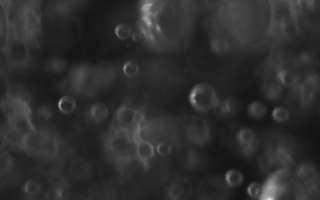bubble: (186, 79, 221, 116), (87, 100, 110, 123), (56, 94, 78, 115), (271, 105, 292, 126), (120, 59, 142, 79), (21, 178, 44, 197), (224, 169, 244, 187), (114, 23, 132, 41), (237, 126, 254, 144), (248, 180, 264, 198), (154, 141, 173, 156)
